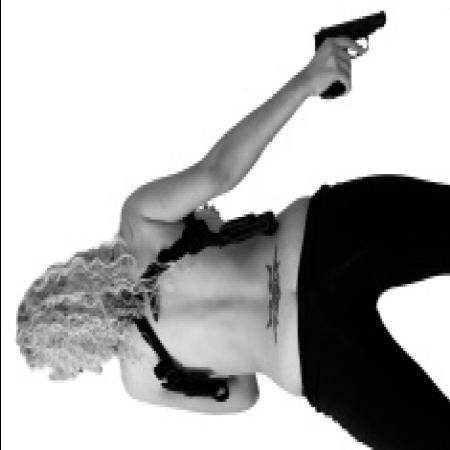Pistol: (310, 14, 384, 108)
